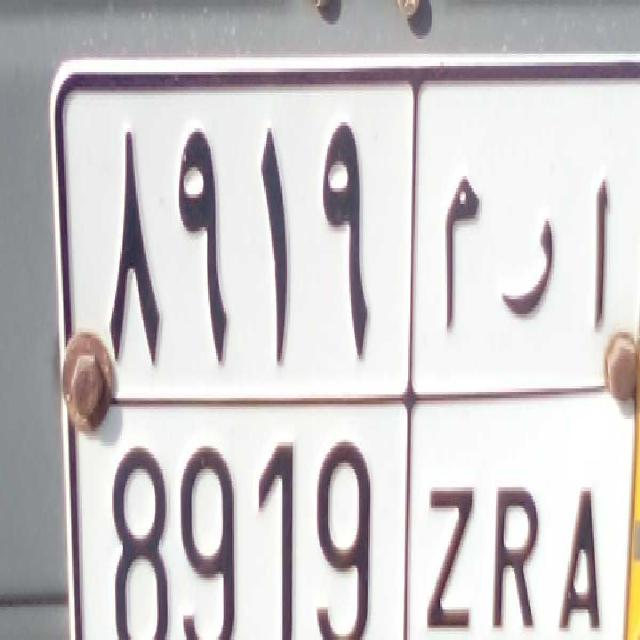license_plate: (106, 405, 613, 640)
